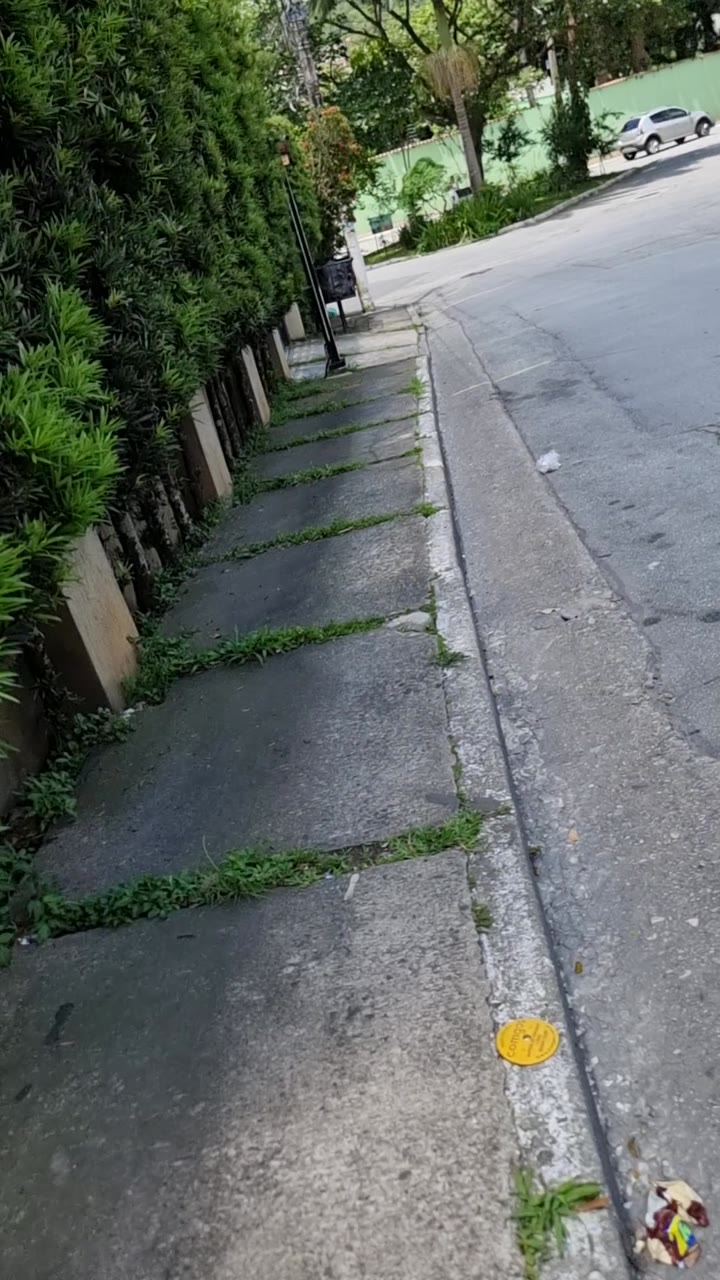obstaculo: (279, 140, 344, 373), (318, 254, 356, 302)
